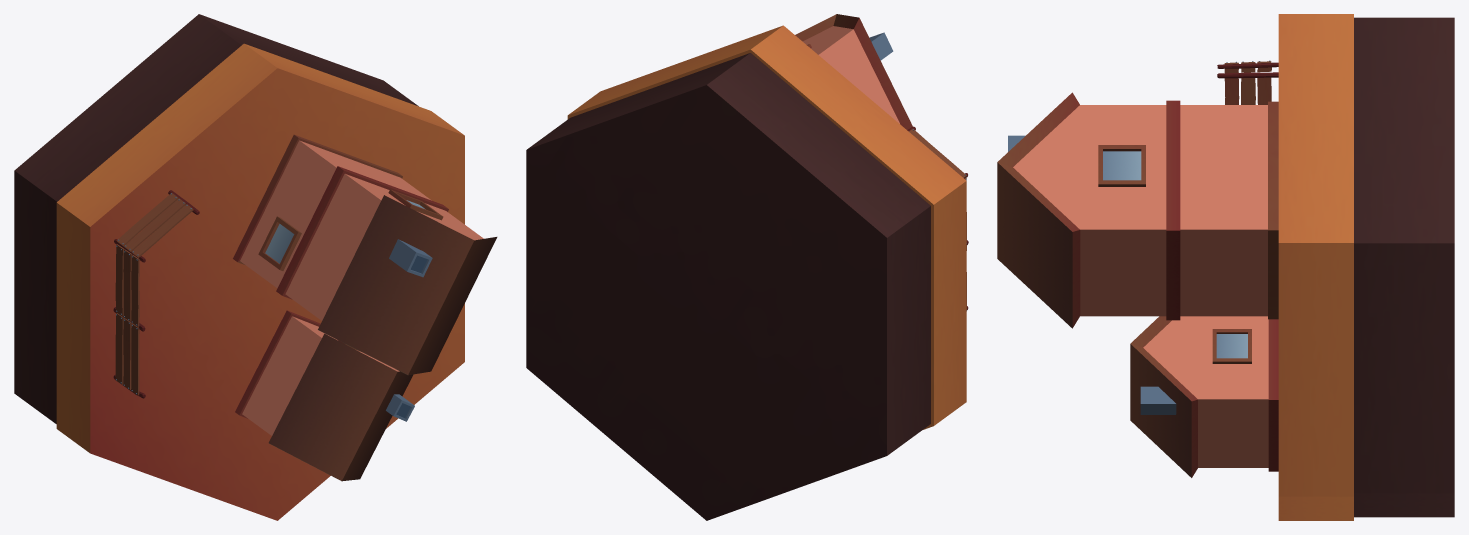
File: DORF_S_EX.fbx
3 views of the same model, side by side, from view 1: azimuth 30°, elevation 25°; view 2: azimuth 150°, elevation 25°; view 3: azimuth 270°, elevation 25° (orthographic). The views are drawn at different scales.
Visible parts, largest first — view 1: DORF_S_EX; view 2: DORF_S_EX; view 3: DORF_S_EX.
Part boxes in pixels (bbox=[...]): DORF_S_EX: bbox=[14, 14, 497, 520]; DORF_S_EX: bbox=[526, 14, 968, 520]; DORF_S_EX: bbox=[997, 14, 1454, 520].
Size of the model in its own units: 172 by 199 by 163.
